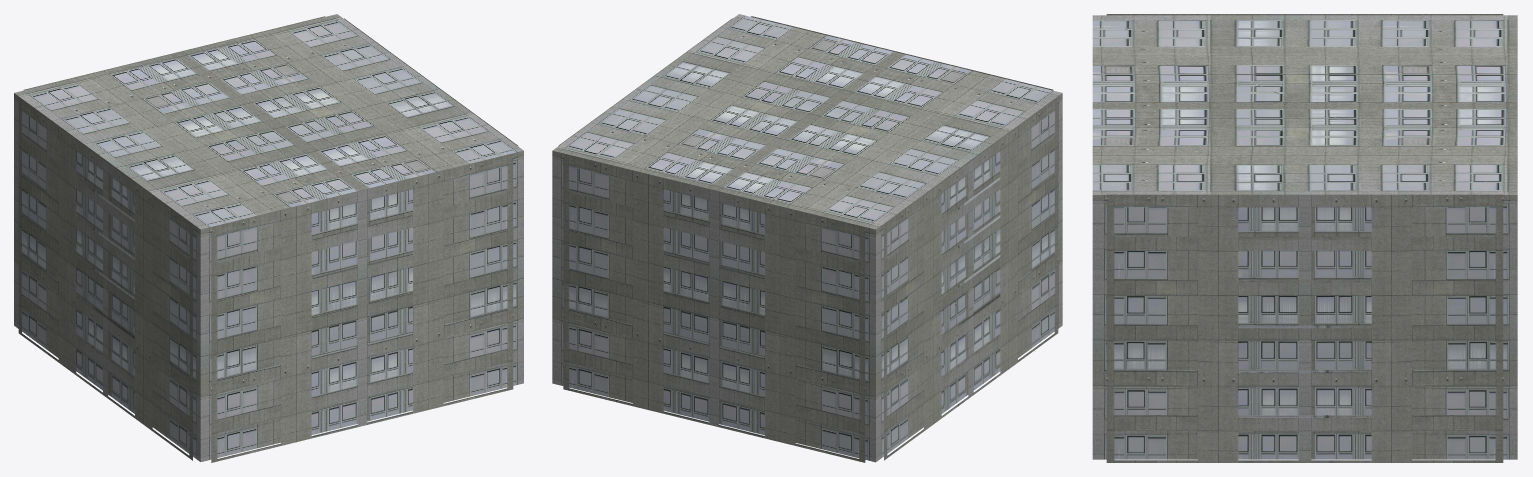
Rendered from BagSS10mid_0.fbx.
The picture shows the model from 3 angles, left to right: view 1: azimuth 30°, elevation 25°; view 2: azimuth 150°, elevation 25°; view 3: azimuth 270°, elevation 25°; orthographic projection. The views are drawn at different scales.
Visible parts, largest first — view 1: midBox0; view 2: midBox0; view 3: midBox0.
Boxes of the visible parts, x1,y1,x2,y2 form: midBox0: [14, 14, 523, 462]; midBox0: [552, 14, 1062, 462]; midBox0: [1092, 14, 1517, 462].
Bounding box in the file's own units: 44.16 × 30.56 × 44.16.
